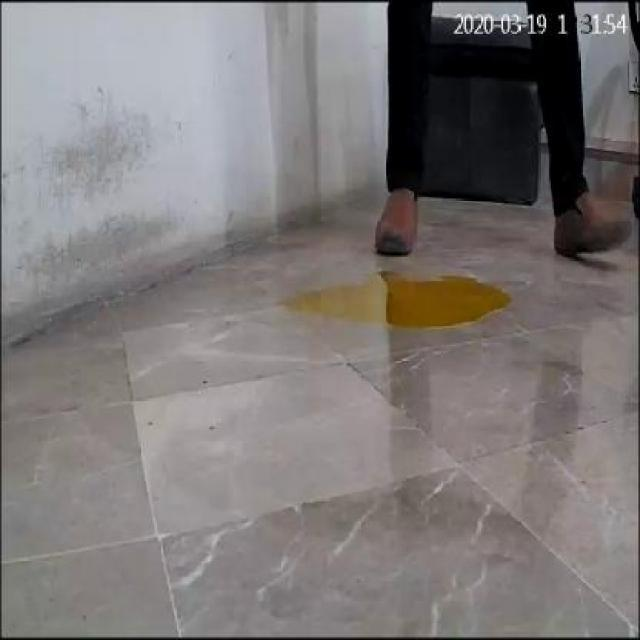spill: (280, 269, 511, 326)
